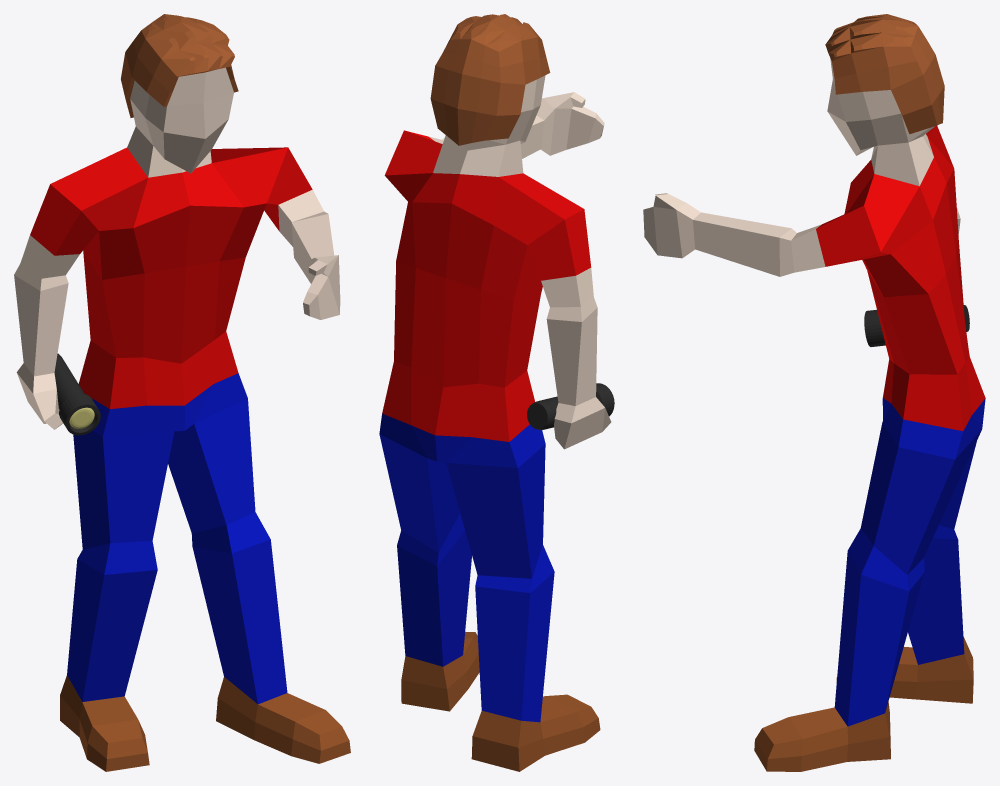
File: Human_grabbing_26.fbx
3 views of the same model, side by side, from view 1: azimuth 30°, elevation 25°; view 2: azimuth 150°, elevation 25°; view 3: azimuth 270°, elevation 25° (orthographic). The views are drawn at different scales.
Visible parts, largest first — view 1: Person.003, Cylinder.002; view 2: Person.003, Cylinder.002; view 3: Person.003, Cylinder.002.
Boxes of the visible parts, x1,y1,x2,y2 form: Person.003: (14, 14, 350, 771); Cylinder.002: (54, 353, 100, 435); Person.003: (379, 14, 611, 771); Cylinder.002: (527, 383, 614, 429); Person.003: (643, 14, 985, 771); Cylinder.002: (864, 305, 969, 346).
Size of the model in its own units: 0.5564 by 1.56 by 0.6934.
